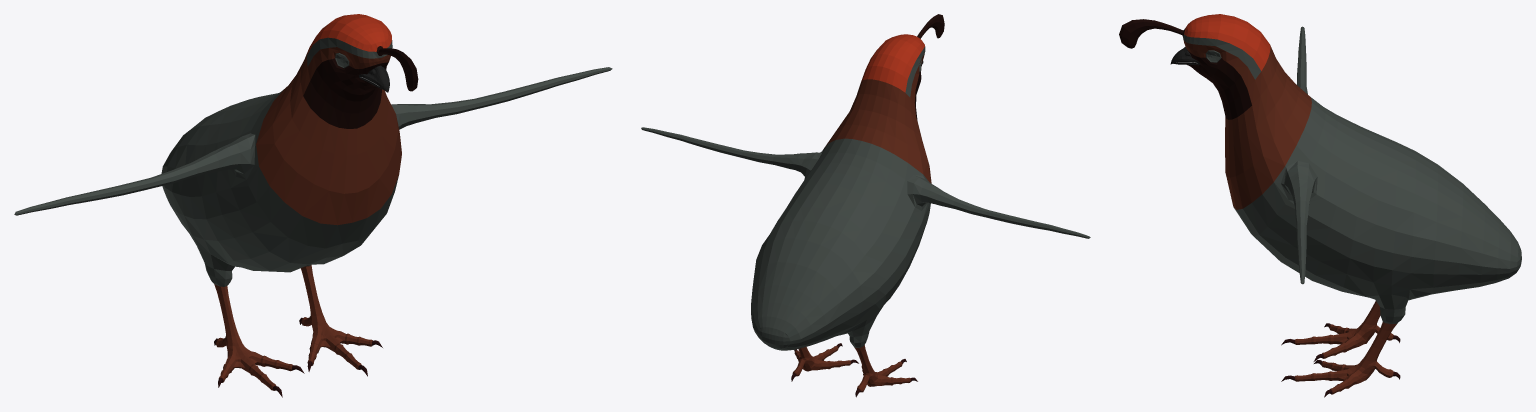
File: quail_quail.obj
3 views of the same model, side by side, from view 1: azimuth 30°, elevation 25°; view 2: azimuth 150°, elevation 25°; view 3: azimuth 270°, elevation 25° (orthographic). The views are drawn at different scales.
Size of the model in its own units: 0.2801 by 0.1762 by 0.1858.
